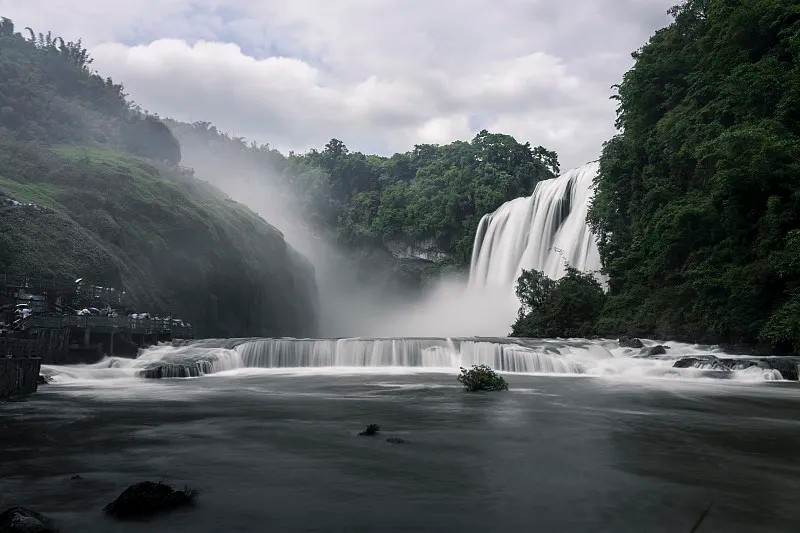Huangguoshu: (462, 161, 609, 337)
